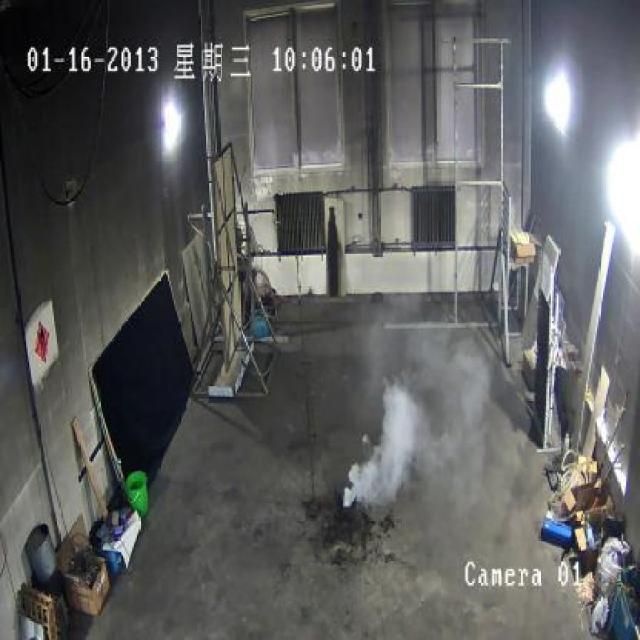fire: (345, 375, 470, 508)
